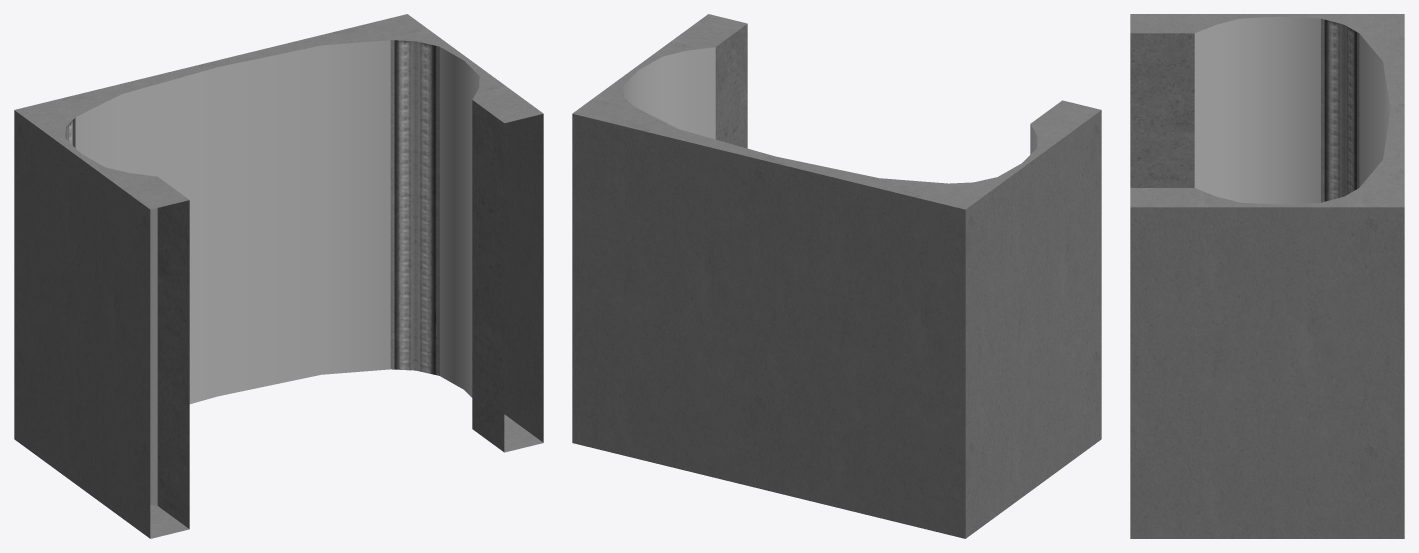
The model's file is TC_city_tunnel_straight_roadless.fbx.
3 renders of one model, left to right at view 1: azimuth 30°, elevation 25°; view 2: azimuth 150°, elevation 25°; view 3: azimuth 270°, elevation 25°, orthographic.
Visible parts, largest first — view 1: TC_city_tunnel_straight_roadless; view 2: TC_city_tunnel_straight_roadless; view 3: TC_city_tunnel_straight_roadless.
Boxes of the visible parts, bbox=[...] form: TC_city_tunnel_straight_roadless: bbox=[14, 14, 543, 538]; TC_city_tunnel_straight_roadless: bbox=[572, 14, 1101, 538]; TC_city_tunnel_straight_roadless: bbox=[1130, 14, 1404, 538].
Bounding box in the file's own units: 10 × 8 × 6.
